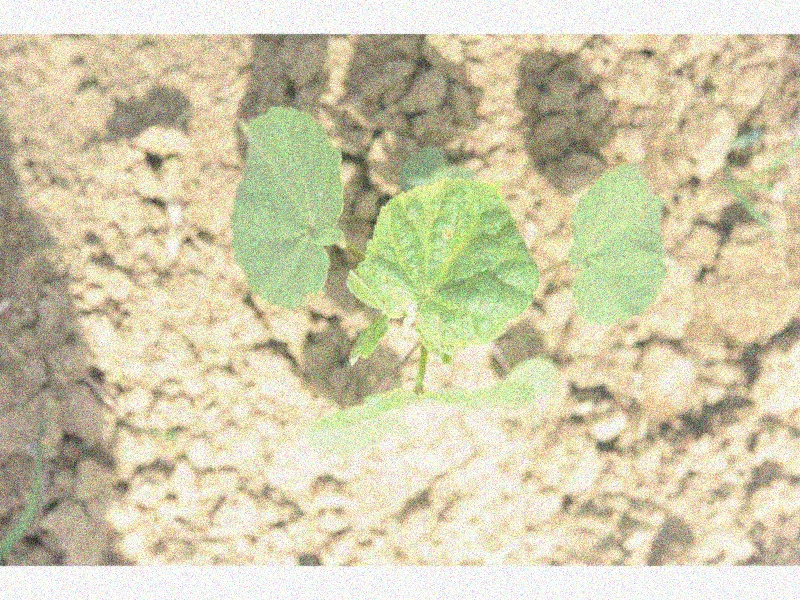velvet: (231, 105, 662, 452)
